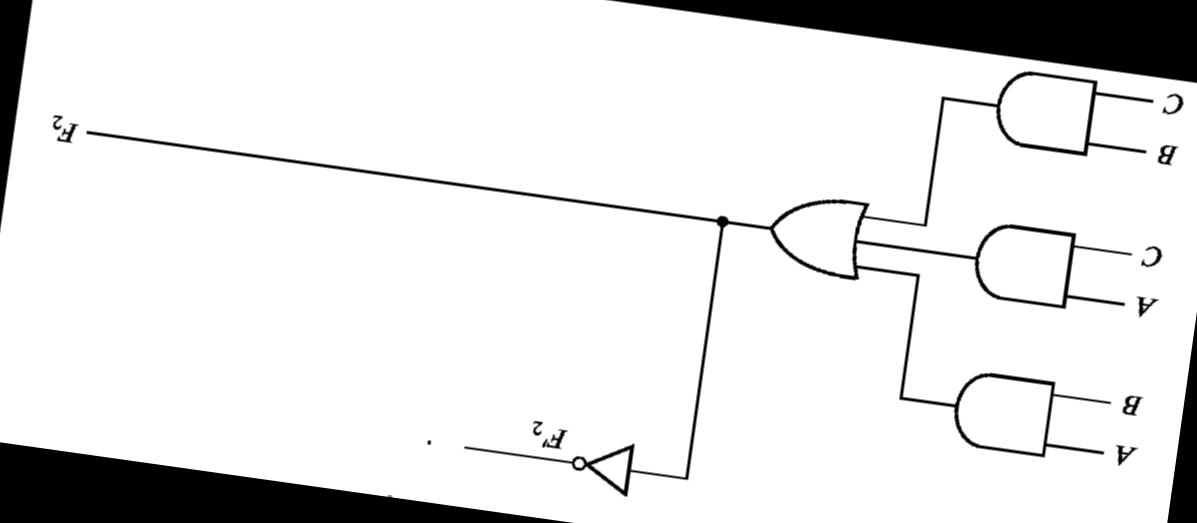and: (938, 360, 1069, 467), (960, 210, 1088, 318), (981, 58, 1105, 164)
not: (560, 428, 647, 502)
or: (754, 178, 878, 290)
